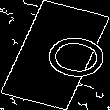O_W: (13, 26, 97, 84)
